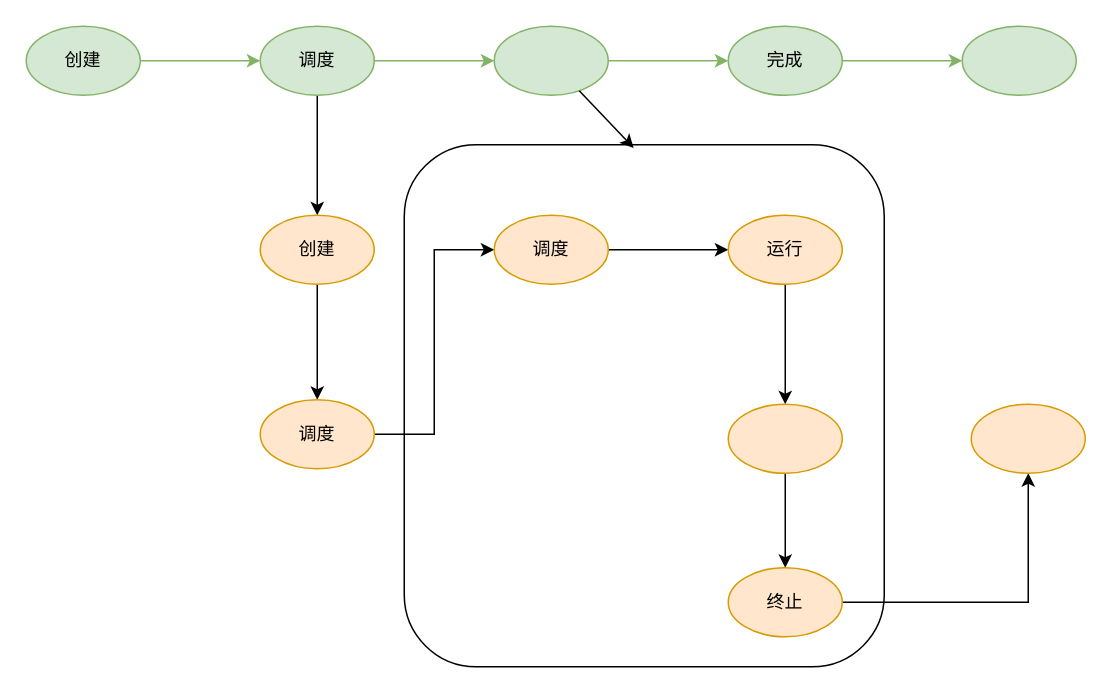
Image size: 1112x693. Some labels were removed from this diagram. Here are the shapes that lost their labels. From the top down, the centre of each, then its label:
At point 550,60: "执行".
At point 1018,60: "清理 TTL或手动".
At point 784,438: "完成/失败".
At point 1027,438: "清理".
